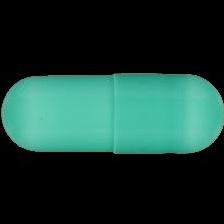16590-129: (0, 0, 224, 224)
